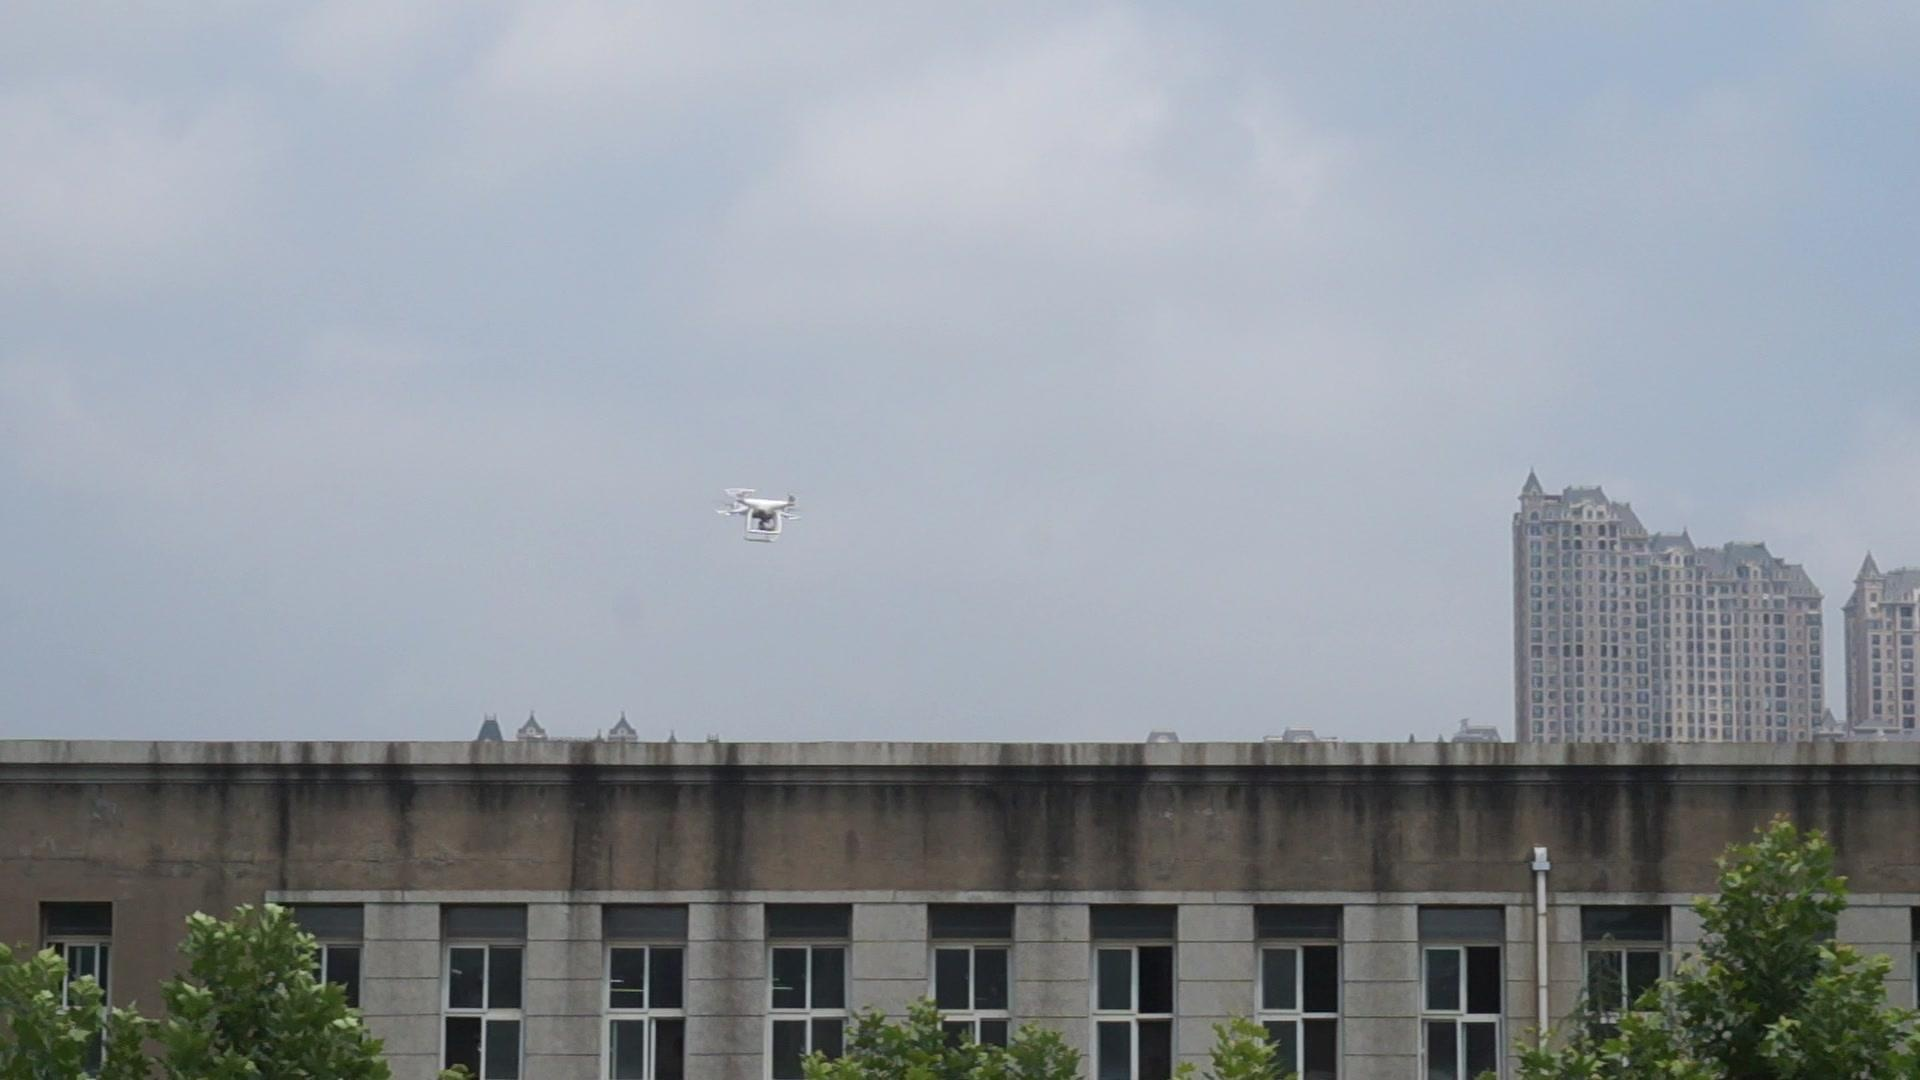UAV: (717, 488, 803, 543)
